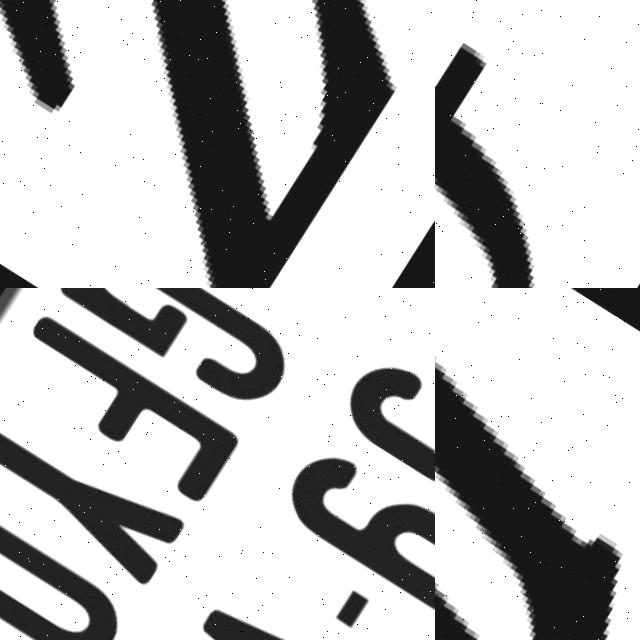0: (0, 478, 145, 640)
5: (331, 343, 435, 540)
9: (271, 434, 435, 633)
F: (435, 0, 640, 288), (0, 304, 255, 508)
G: (56, 288, 309, 412)
M: (435, 288, 640, 640)
V: (182, 576, 435, 640)
Y: (0, 389, 197, 590)
Z: (0, 0, 435, 288)
